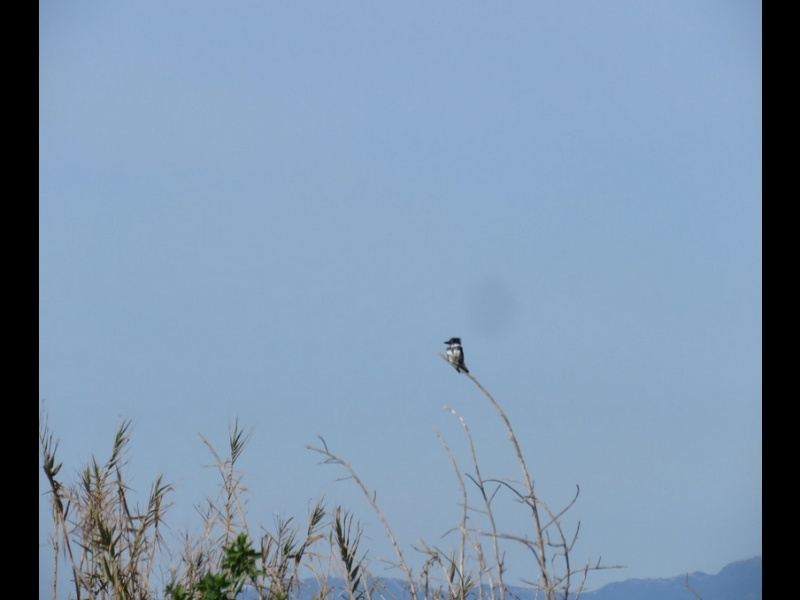kingfisher: (445, 335, 469, 376)
